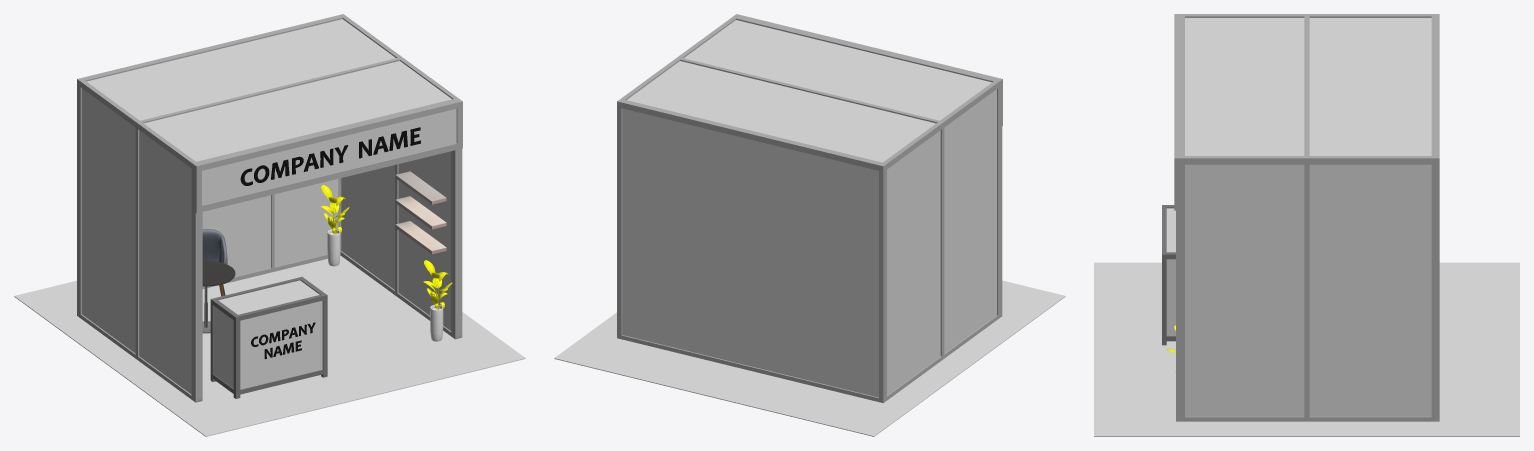
Rendered from 1ST STAL.fbx.
The picture shows the model from 3 angles, left to right: view 1: azimuth 30°, elevation 25°; view 2: azimuth 150°, elevation 25°; view 3: azimuth 270°, elevation 25°; orthographic projection. The views are drawn at different scales.
Visible parts, largest first — view 1: StallRoom, Plane001, Counter, Stall, Text003, arm_chair_01, top_table, Text004, plant.002_leave_1_MatSG.001_001, plant.002_leave_1_MatSG.001_0; view 2: StallRoom, Plane001; view 3: StallRoom, Plane001, Counter.
Boxes of the visible parts, <box> form: StallRoom: <box>77,14,462,402</box>; Plane001: <box>14,255,525,436</box>; Counter: <box>210,276,327,398</box>; Stall: <box>395,171,446,254</box>; Text003: <box>240,145,347,185</box>; arm_chair_01: <box>202,228,227,296</box>; top_table: <box>202,260,235,286</box>; Text004: <box>359,127,420,158</box>; plant.002_leave_1_MatSG.001_001: <box>320,184,349,234</box>; plant.002_leave_1_MatSG.001_0: <box>423,260,452,309</box>; StallRoom: <box>617,14,1002,403</box>; Plane001: <box>554,280,1065,436</box>; StallRoom: <box>1174,14,1439,421</box>; Plane001: <box>1094,262,1519,436</box>; Counter: <box>1162,205,1175,345</box>.
Size of the model in its own units: 405 by 287 by 420.
16 materials, 7 textured.
